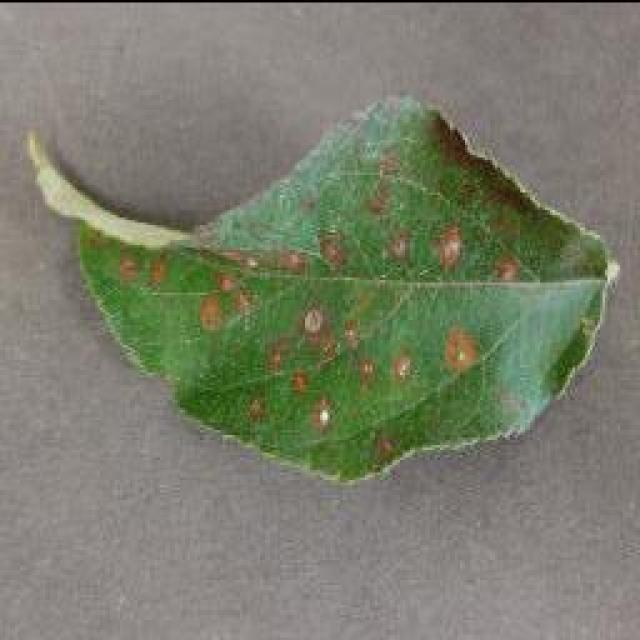apple cedar apple rust: (22, 93, 620, 485)
